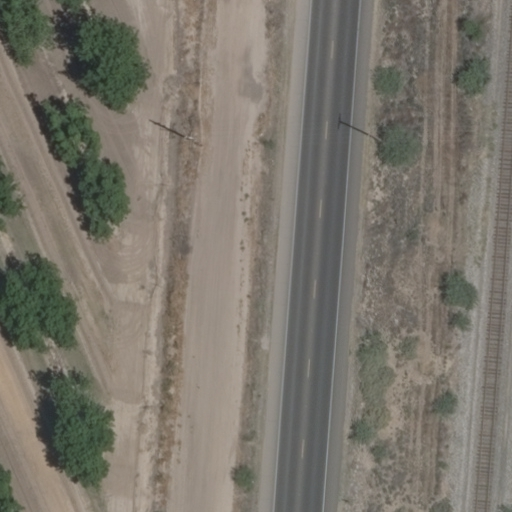DT: (183, 128, 205, 151), (364, 126, 385, 147)
